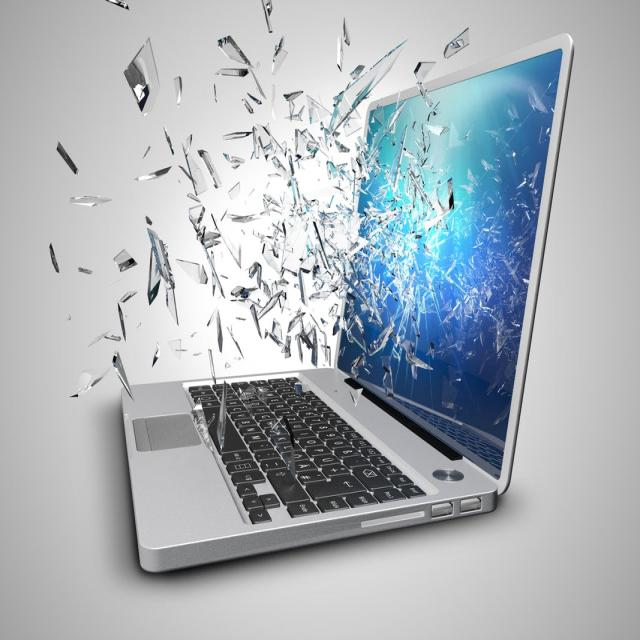laptop: (122, 34, 572, 569)
